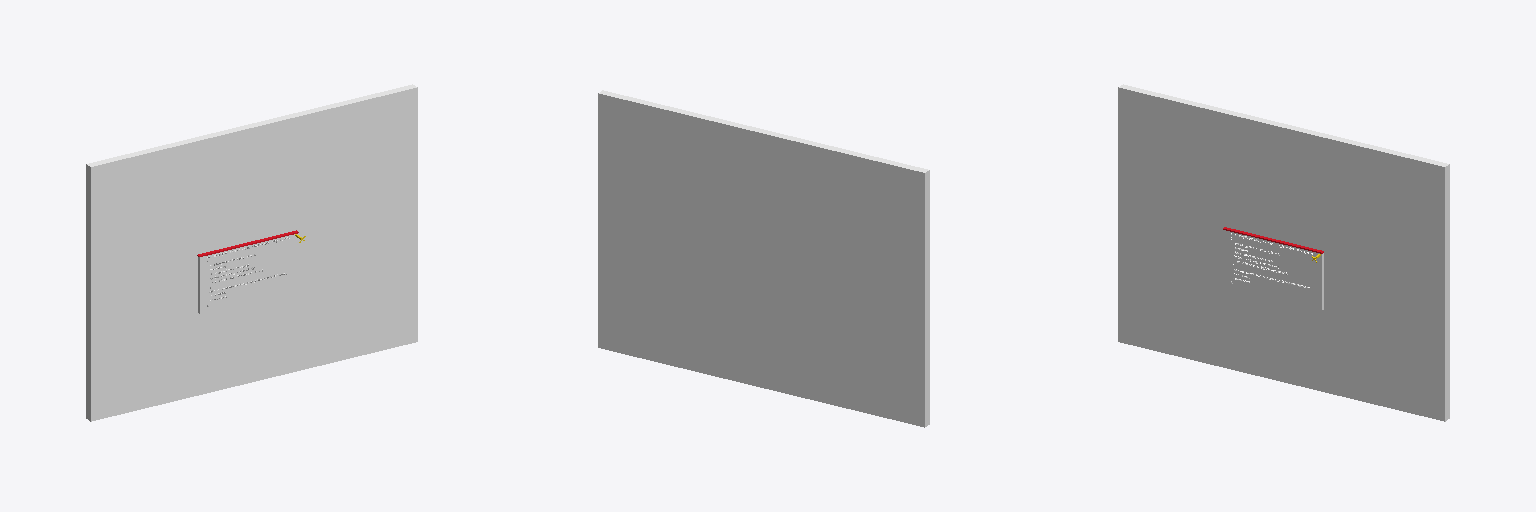
Rendered from v194_sim_main.obj.
The picture shows the model from 3 angles: view 1: azimuth 30°, elevation 25°; view 2: azimuth 150°, elevation 25°; view 3: azimuth 330°, elevation 25°; orthographic projection.
Visible parts, largest first — view 1: obj_0; view 2: obj_0; view 3: obj_0.
Boxes of the visible parts, box(x1,y1,x2,y2) form: obj_0: box(86, 84, 417, 421); obj_0: box(598, 90, 929, 427); obj_0: box(1118, 84, 1449, 421).
Size of the model in its own units: 865 by 644 by 57.